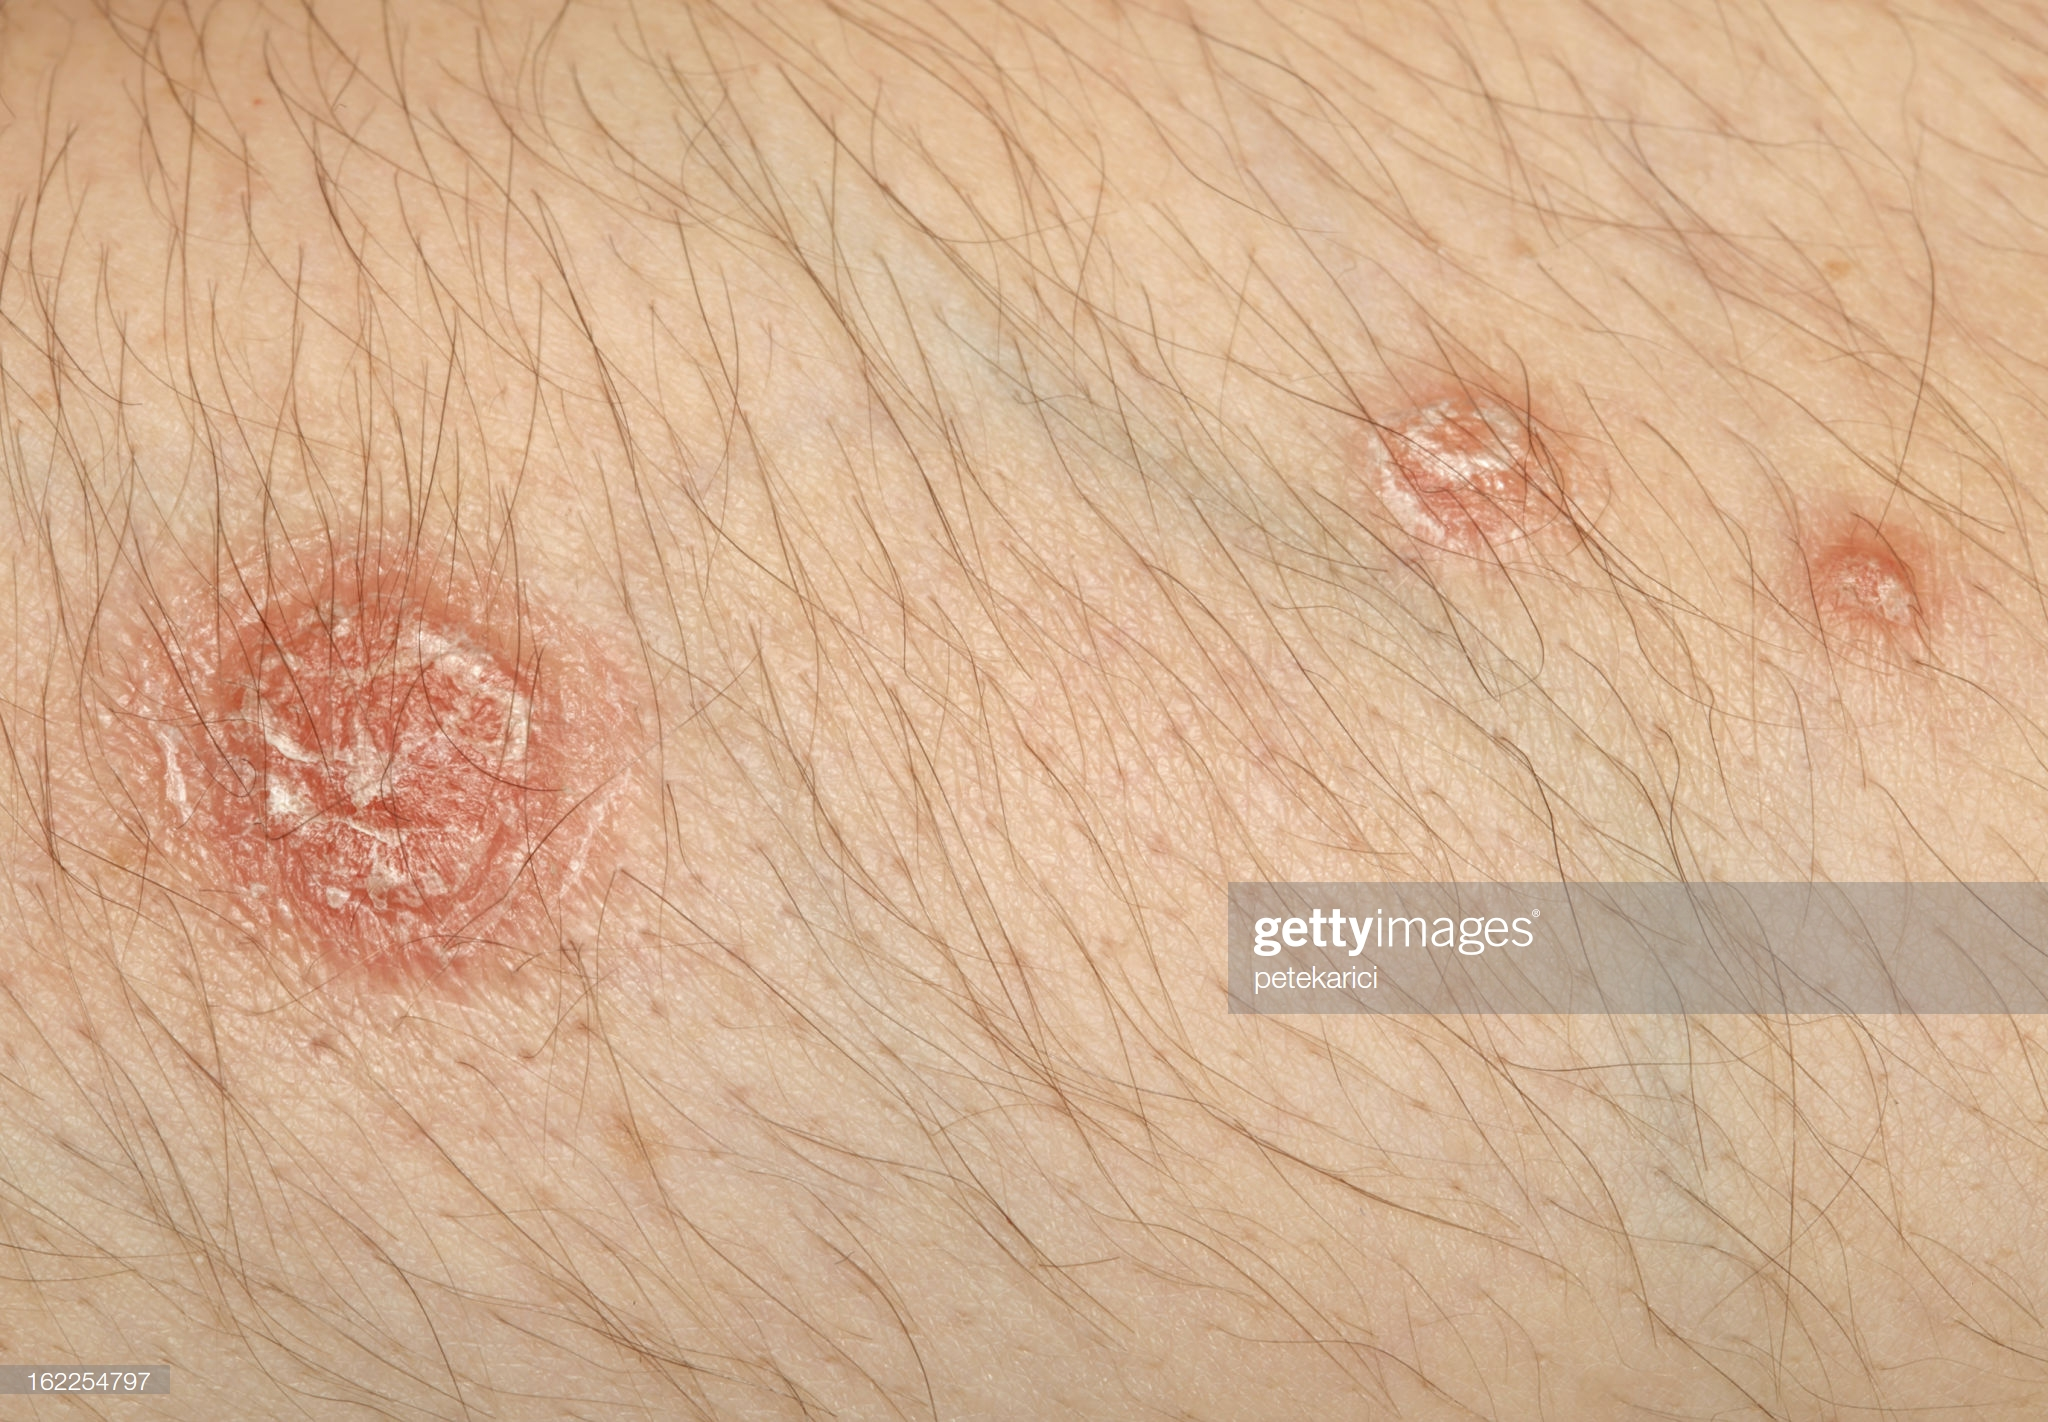Eczema: (56, 398, 1967, 937)
